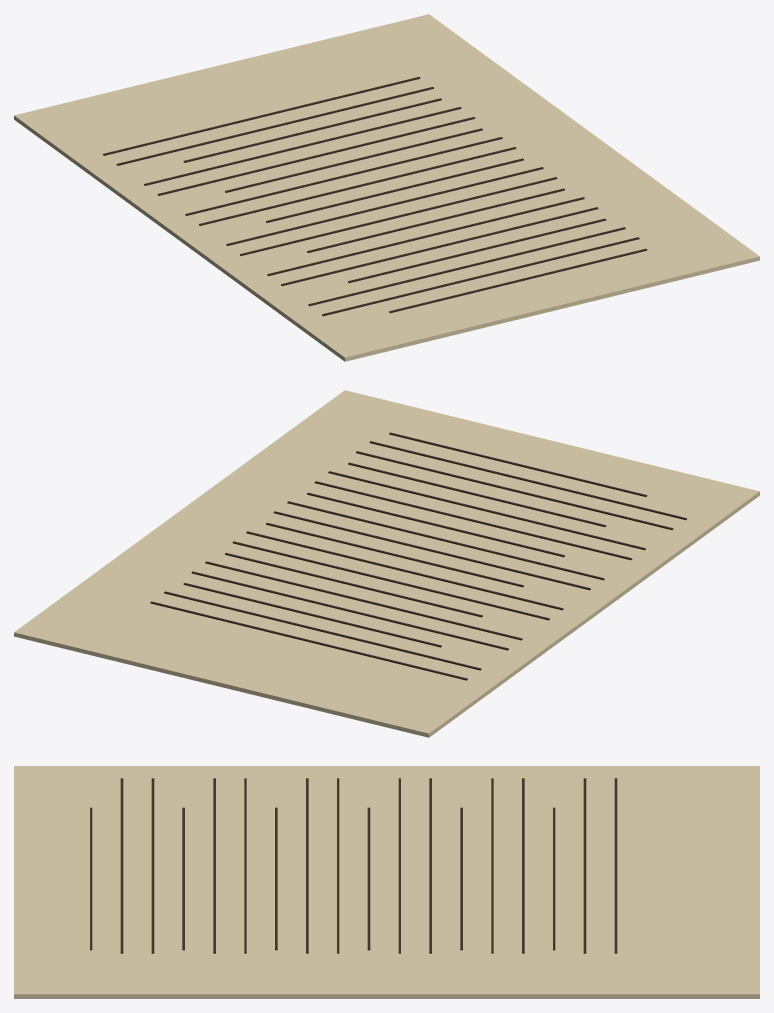
File: Paper_Letter.fbx
The picture shows the model from 3 angles, top to bottom: view 1: azimuth 30°, elevation 25°; view 2: azimuth 150°, elevation 25°; view 3: azimuth 270°, elevation 25°; orthographic projection. The views are drawn at different scales.
Visible parts, largest first — view 1: Sheet.001, Handwriting line.020, Handwriting line.029, Handwriting line.025, Handwriting line.026, Handwriting line.035, Handwriting line.019, Handwriting line.031, Handwriting line.032, Handwriting line.023, Handwriting line.028, Handwriting line.034 (+7 smaller); view 2: Sheet.001, Handwriting line.034, Handwriting line.022, Handwriting line.023, Handwriting line.025, Handwriting line.026, Handwriting line.035, Handwriting line.020, Handwriting line.028, Handwriting line.031, Handwriting line.029, Handwriting line.032 (+7 smaller); view 3: Sheet.001, Handwriting line.019, Handwriting line.020, Handwriting line.034, Handwriting line.035, Handwriting line.027, Handwriting line.022, Handwriting line.023, Handwriting line.025, Handwriting line.026, Handwriting line.028, Handwriting line.029 (+7 smaller).
Boxes of the visible parts, x1,y1,x2,y2 form: Sheet.001: (14, 14, 759, 361); Handwriting line.020: (308, 227, 625, 306); Handwriting line.029: (185, 137, 502, 215); Handwriting line.025: (240, 177, 557, 255); Handwriting line.026: (226, 167, 543, 245); Handwriting line.035: (103, 77, 420, 155); Handwriting line.019: (322, 237, 639, 316); Handwriting line.031: (157, 117, 475, 195); Handwriting line.032: (144, 107, 461, 185); Handwriting line.023: (267, 197, 584, 275); Handwriting line.028: (199, 147, 516, 225); Handwriting line.034: (116, 87, 433, 165); Sheet.001: (14, 390, 759, 737); Handwriting line.034: (164, 591, 481, 670); Handwriting line.022: (328, 471, 645, 550); Handwriting line.023: (314, 481, 632, 560); Handwriting line.025: (287, 501, 604, 580); Handwriting line.026: (273, 511, 590, 590); Handwriting line.035: (150, 601, 467, 680); Handwriting line.020: (356, 451, 673, 529); Handwriting line.028: (246, 531, 563, 610); Handwriting line.031: (205, 561, 522, 640); Handwriting line.029: (232, 541, 549, 620); Handwriting line.032: (191, 571, 508, 650); Sheet.001: (14, 766, 759, 998); Handwriting line.019: (120, 778, 123, 953); Handwriting line.020: (151, 778, 154, 953); Handwriting line.034: (583, 778, 586, 953); Handwriting line.035: (614, 778, 617, 953); Handwriting line.027: (367, 807, 370, 950); Handwriting line.022: (213, 778, 215, 953); Handwriting line.023: (244, 778, 246, 953); Handwriting line.025: (306, 778, 308, 953); Handwriting line.026: (337, 778, 339, 953); Handwriting line.028: (398, 778, 400, 953); Handwriting line.029: (429, 778, 431, 953).
Size of the model in its own units: 0.21 by 0.0028 by 0.29.
